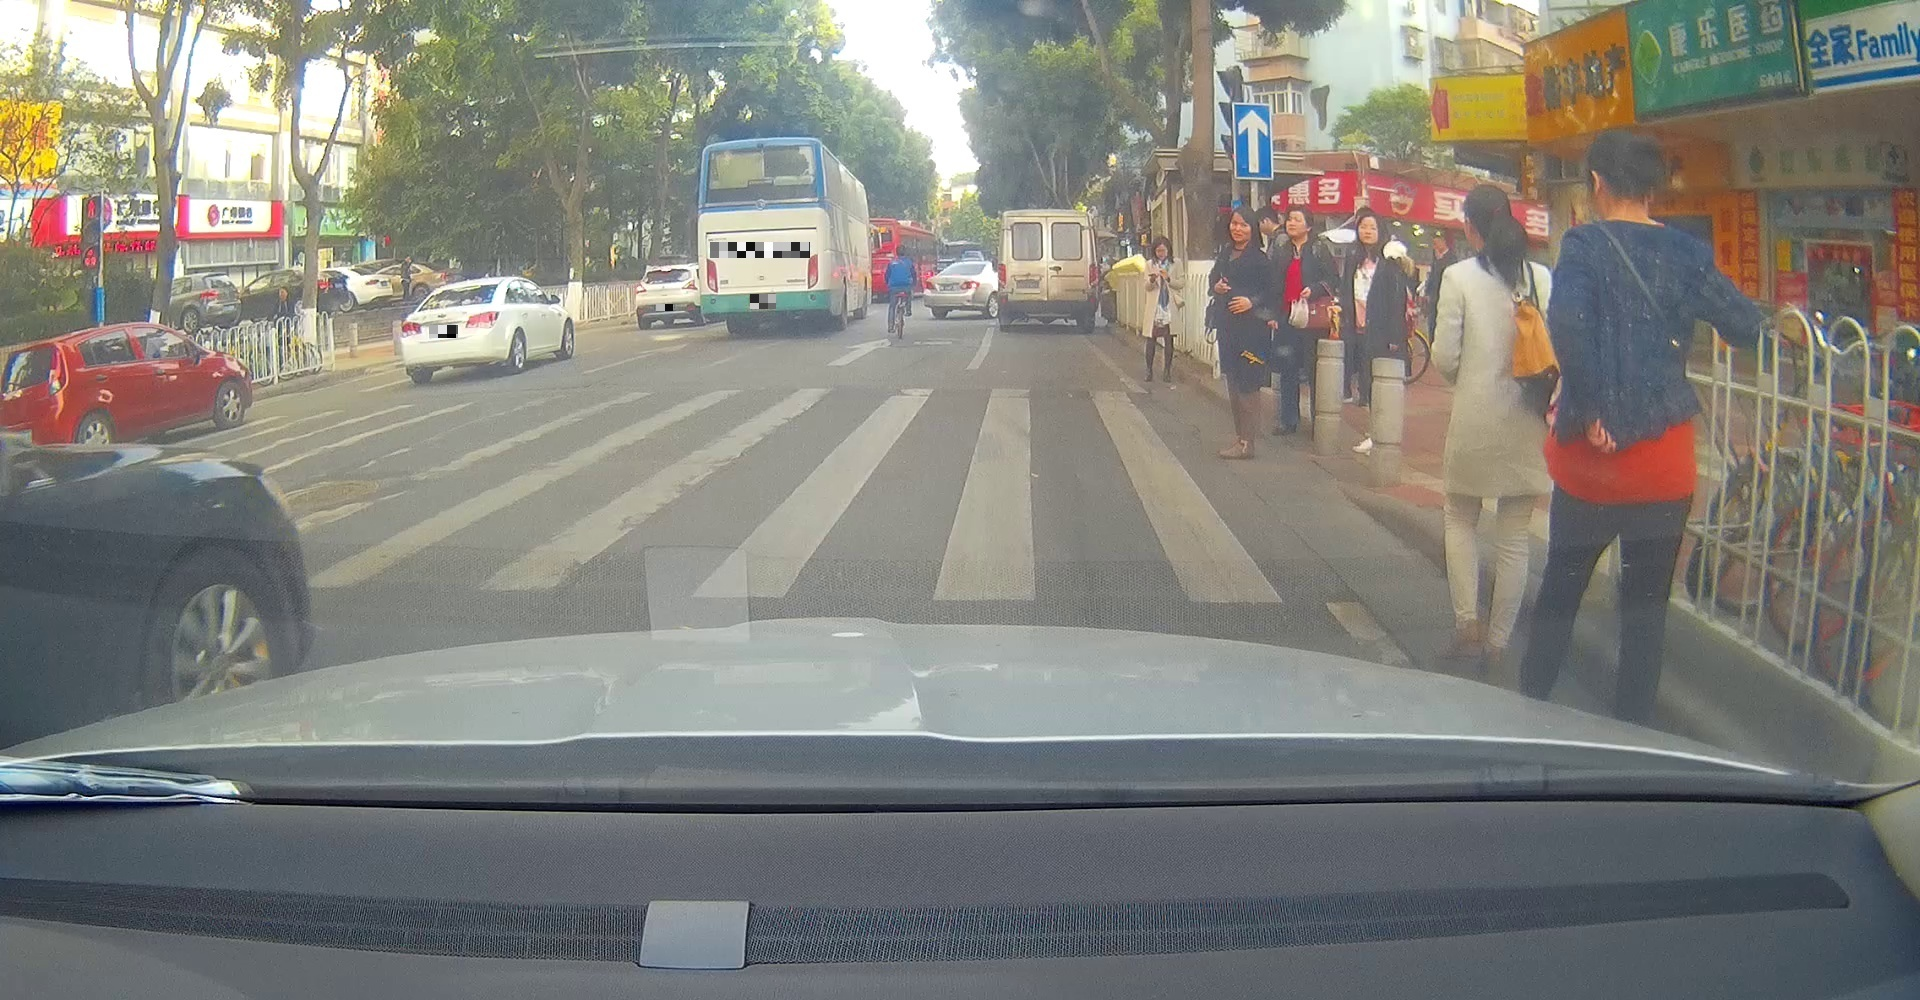L_light: (998, 263, 1008, 303), (706, 258, 717, 293), (400, 321, 422, 339), (635, 283, 648, 294), (923, 280, 935, 289)
R_light: (465, 311, 502, 329), (808, 253, 819, 291), (1090, 263, 1097, 303), (960, 280, 980, 291), (681, 280, 698, 291)
T_light: (747, 178, 775, 187), (453, 286, 481, 292), (1041, 299, 1053, 303), (662, 269, 670, 272), (952, 274, 960, 275)
day-brake: (635, 263, 698, 330)
day-no: (698, 137, 830, 334), (997, 209, 1098, 332), (400, 277, 508, 385)
day-right: (923, 261, 987, 319)
plate_1: (429, 325, 458, 338)
plate_2: (657, 305, 673, 311)
plate_3: (710, 242, 810, 258)
plate_4: (750, 294, 776, 308)
